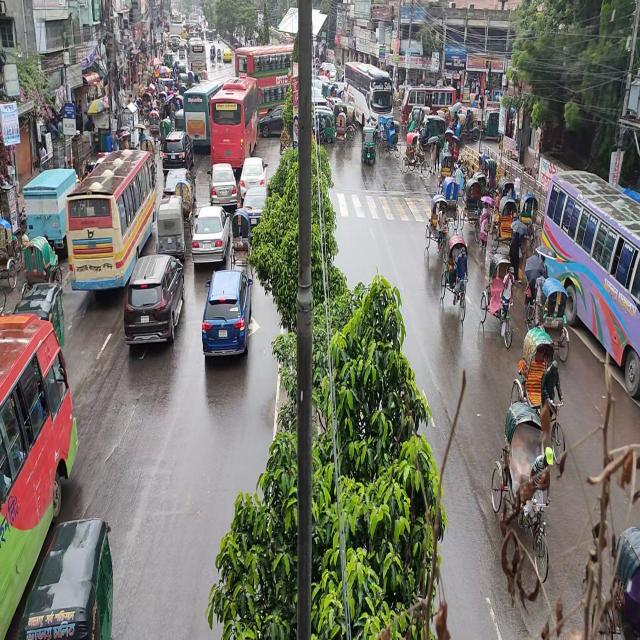black: (123, 254, 185, 350)
blue: (202, 268, 252, 362)
silver: (192, 204, 230, 266), (210, 163, 238, 205)
white: (240, 154, 267, 202)
